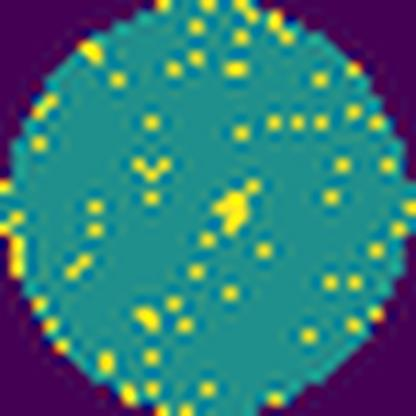Center: (215, 179, 254, 237)
